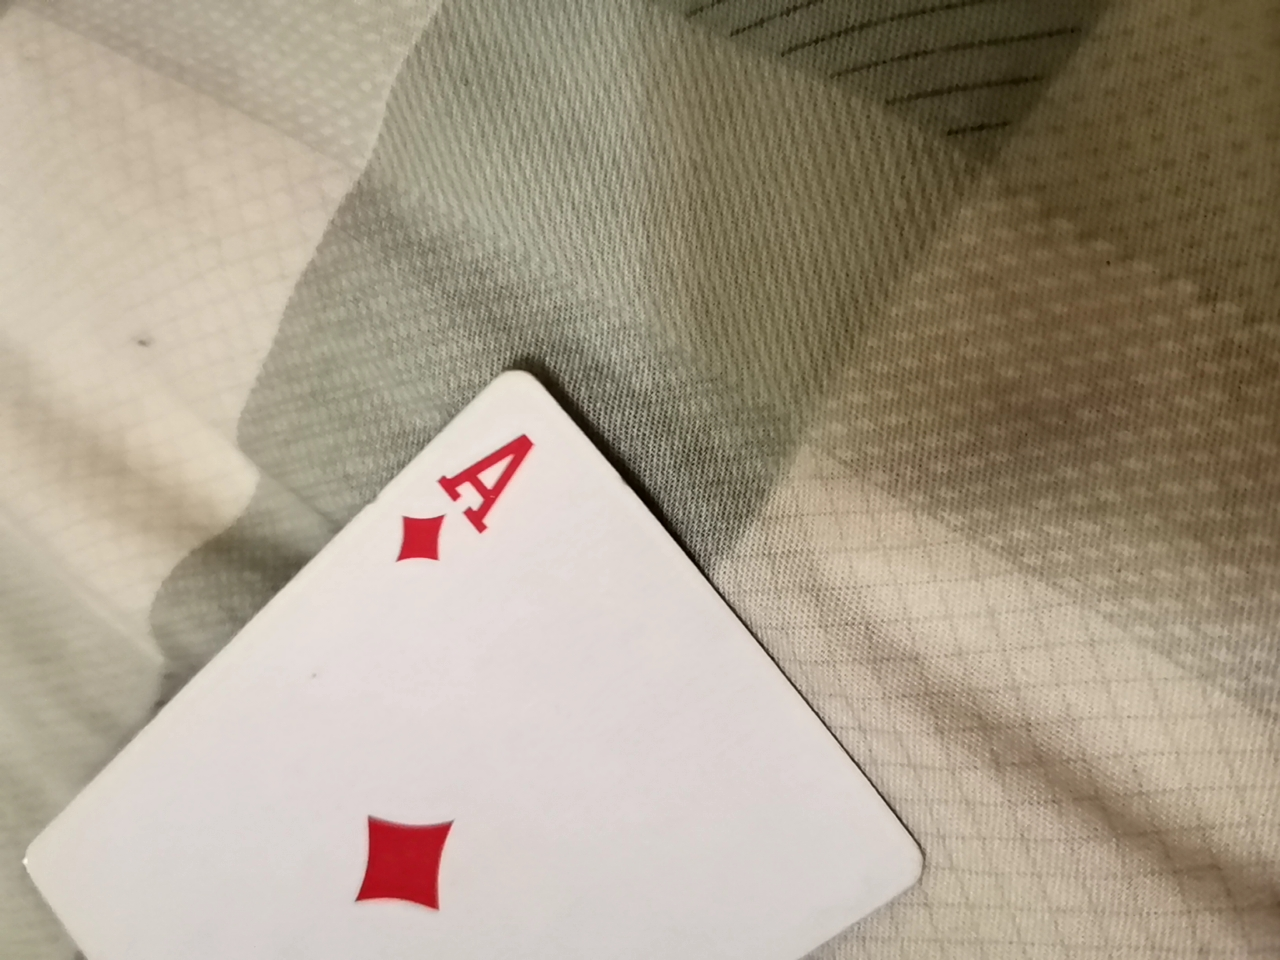fk a: (12, 367, 956, 956)
